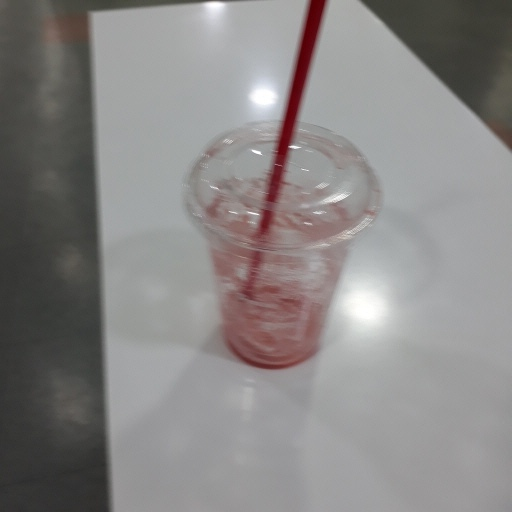Plastic_2: (182, 2, 385, 372)
